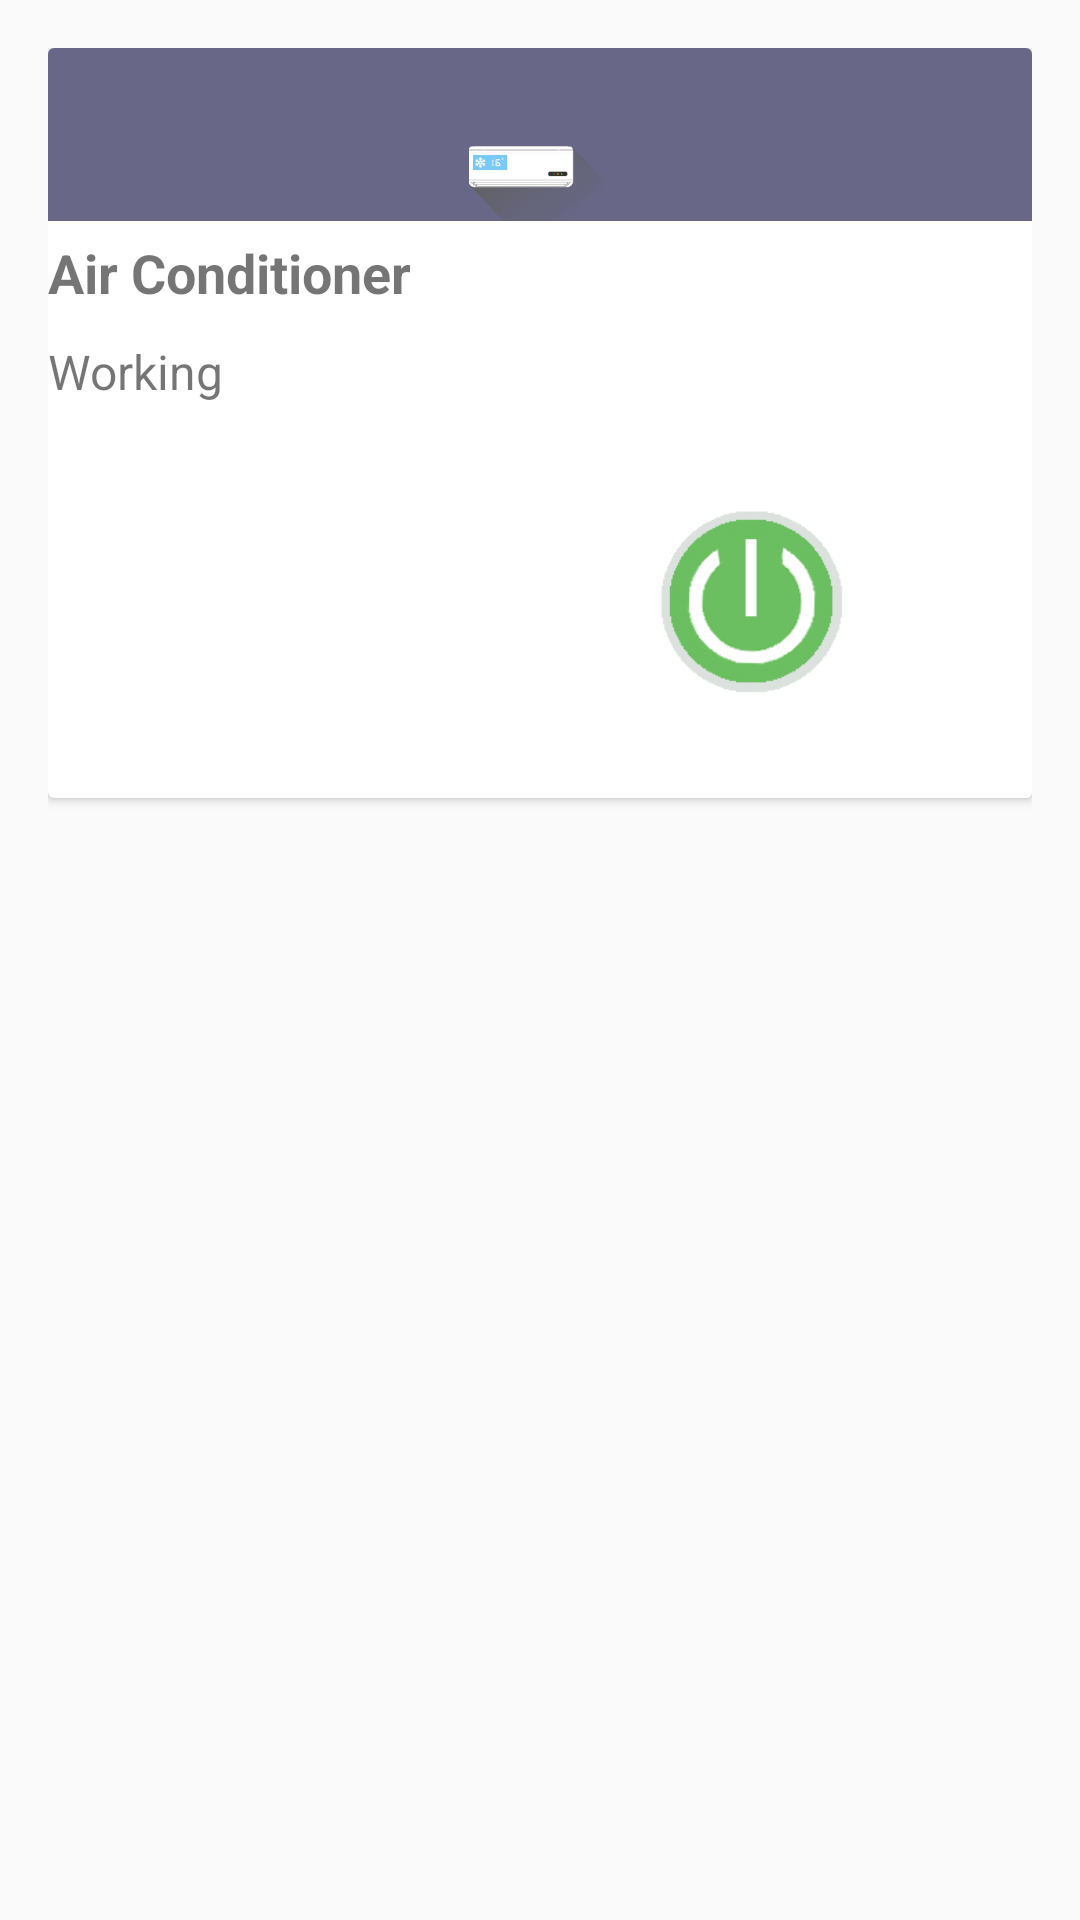

Where to tap for icons on this 1080*1920 app screen, as point (x, y):
on off: point (752, 602)
